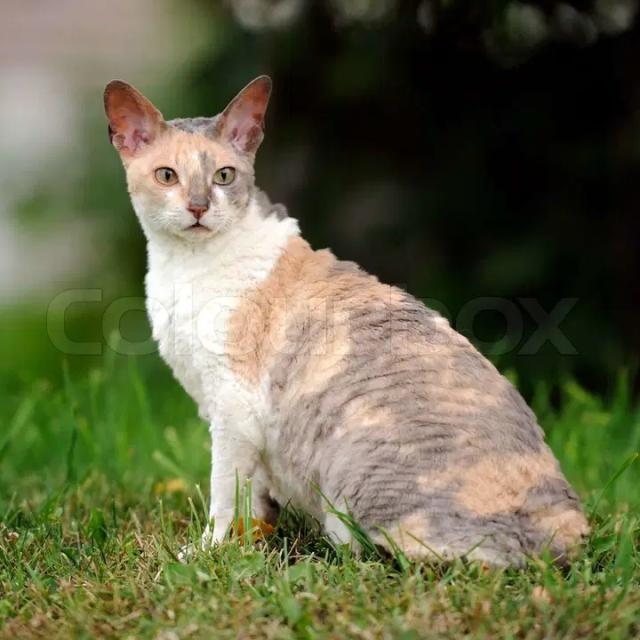Cornish Rex: (102, 70, 598, 579)
